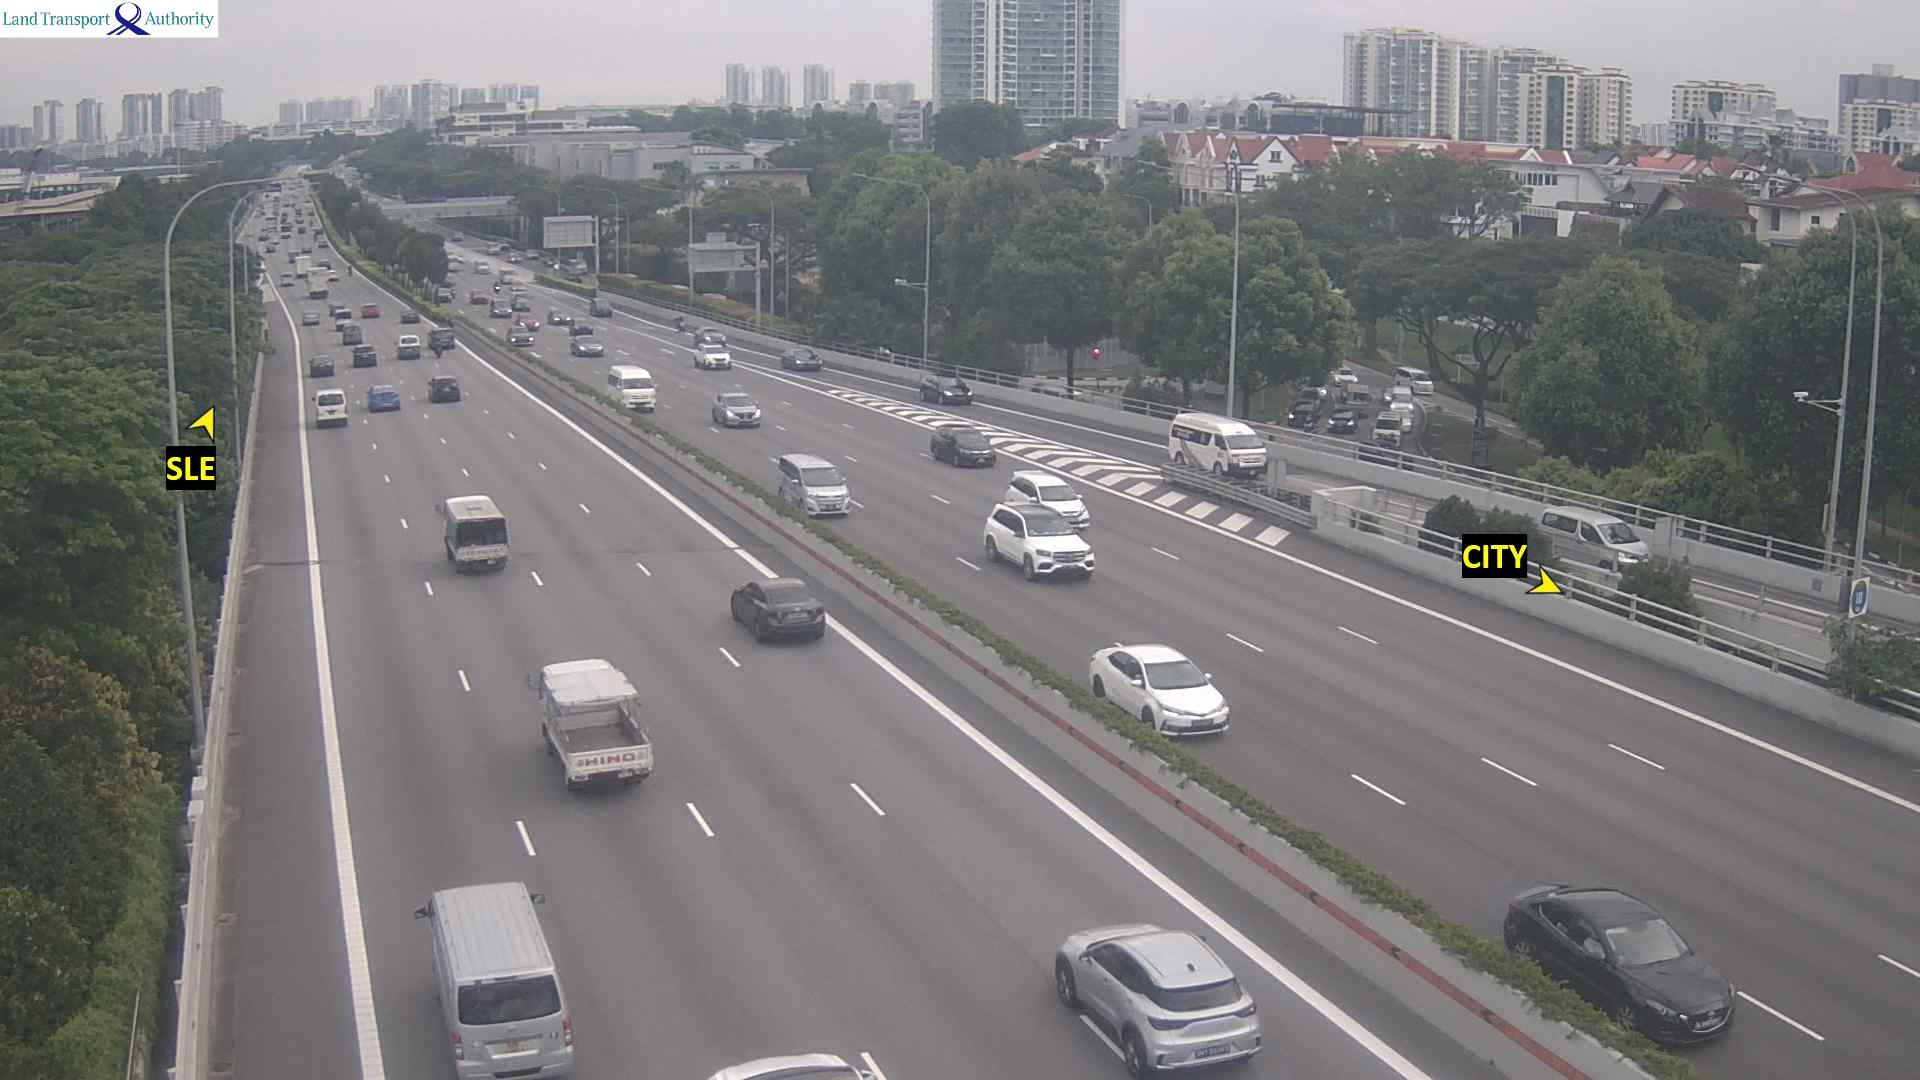incoming: (1592, 913, 1749, 1047), (1127, 657, 1233, 740), (1011, 512, 1100, 582), (790, 464, 856, 518), (1590, 520, 1656, 574), (1213, 426, 1275, 481), (1026, 483, 1096, 530), (947, 430, 997, 469), (615, 371, 659, 413), (719, 394, 764, 427), (934, 375, 976, 406), (791, 347, 824, 372), (700, 345, 733, 371), (572, 336, 605, 357), (508, 326, 535, 347), (591, 298, 615, 319), (700, 328, 728, 345), (491, 298, 513, 318), (512, 291, 534, 311), (516, 314, 541, 330), (570, 319, 595, 335), (549, 310, 572, 324), (500, 266, 518, 285), (469, 287, 489, 305), (475, 258, 489, 277), (675, 315, 686, 332), (492, 278, 502, 294)
